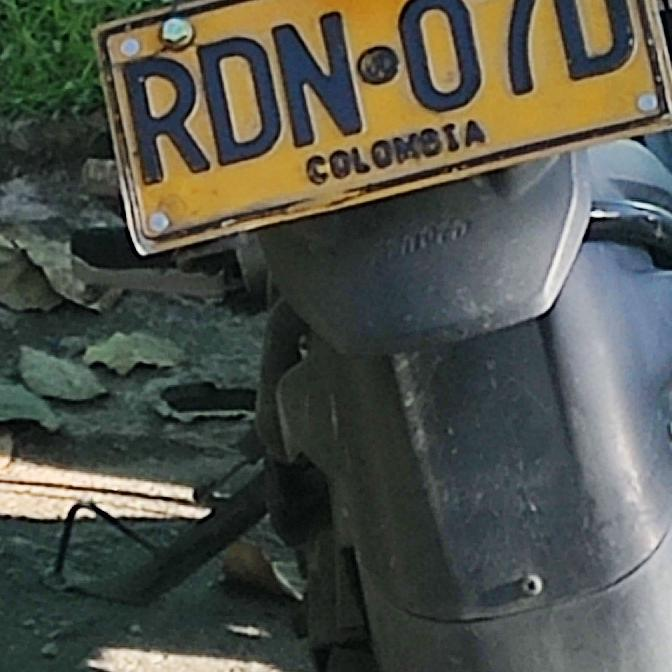plates: (95, 0, 672, 253)
